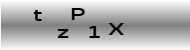1: (87, 24, 100, 38)
P: (71, 7, 85, 21)
X: (107, 21, 124, 35)
t: (32, 9, 43, 22)
z: (57, 27, 69, 39)
